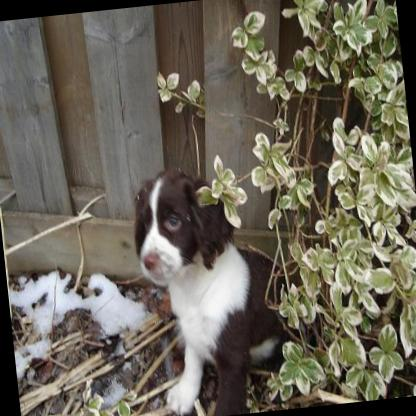English_springer: (124, 154, 295, 416)
